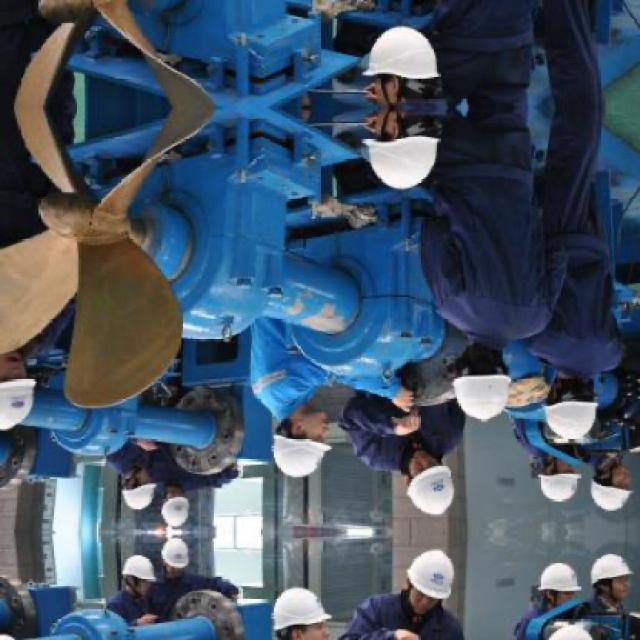con casco: (412, 296, 522, 436), (501, 332, 596, 444), (230, 389, 331, 489), (351, 434, 454, 522), (562, 442, 640, 526), (504, 440, 566, 524), (0, 311, 43, 424), (120, 450, 177, 510), (158, 475, 220, 528)
